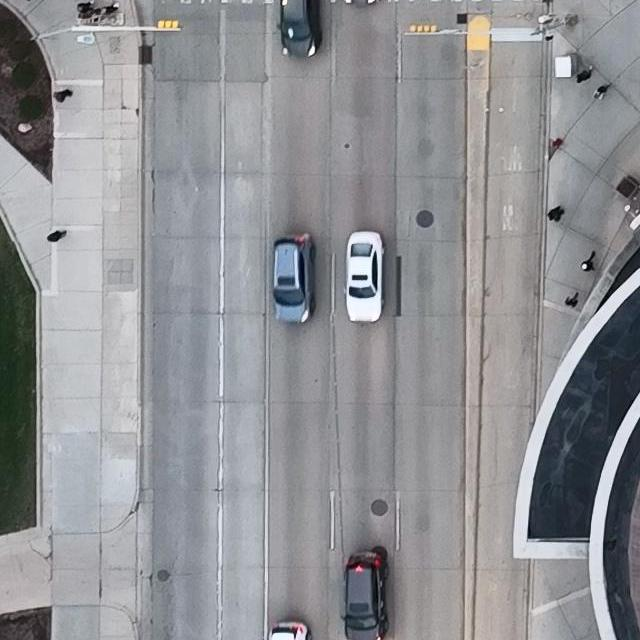car: (340, 550, 390, 640), (270, 233, 314, 325), (342, 229, 385, 322), (275, 0, 321, 58), (269, 621, 313, 640)
